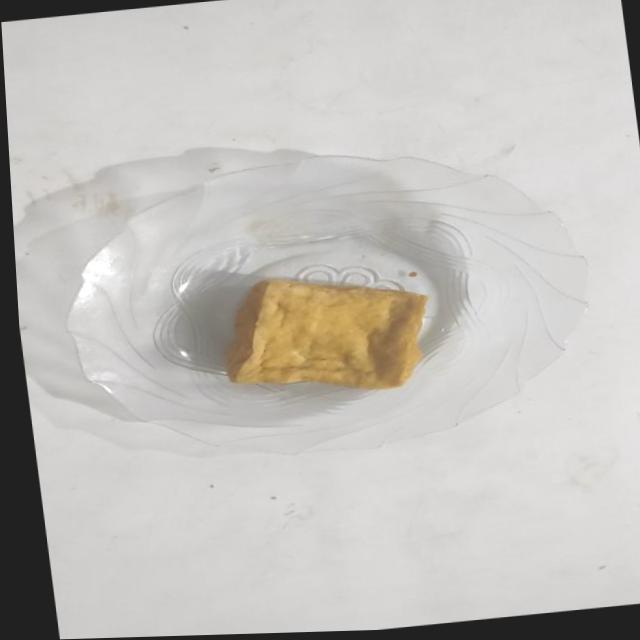tahu_goreng: (225, 279, 428, 389)
